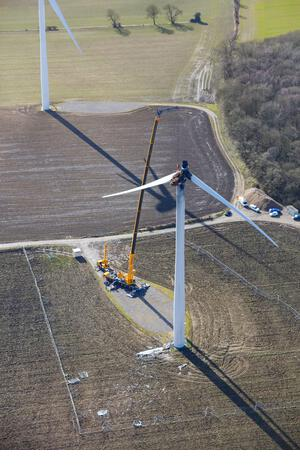faulty: (111, 159, 266, 352)
